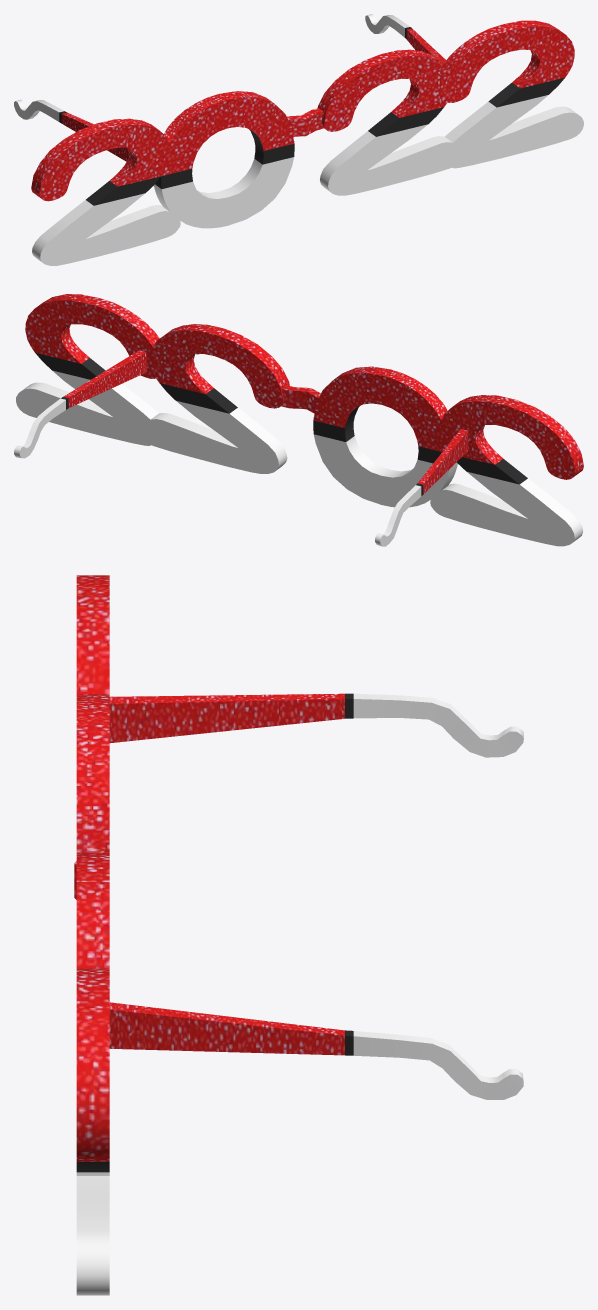
The model's file is Jan 2022.obj.
The picture shows the model from 3 angles, top to bottom: view 1: azimuth 30°, elevation 25°; view 2: azimuth 150°, elevation 25°; view 3: azimuth 270°, elevation 25°; orthographic projection. The views are drawn at different scales.
Visible parts, largest first — view 1: Jan_2022; view 2: Jan_2022; view 3: Jan_2022.
Part boxes in pixels (<box>): Jan_2022: <box>14,14,583,265</box>; Jan_2022: <box>14,294,583,546</box>; Jan_2022: <box>74,575,523,1295</box>.
Size of the model in its own units: 0.1083 by 0.024 by 0.0387.
Materials: 1 (1 with a texture image).
